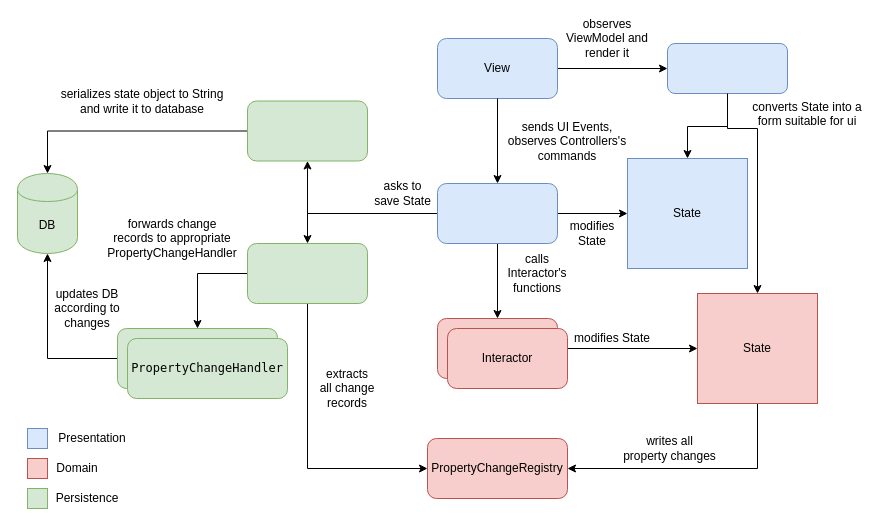
Image size: 885x526. Some labels were removed from this diagram. The shapes that lost their labels are listed below. From the top down, each one's centre as x and y in pixels, then its label:
At [727,68]: "ViewModel".
At [307,130]: "ShortTermState Saver".
At [497,213]: "Controller".
At [307,273]: "LongTermState Saver".
